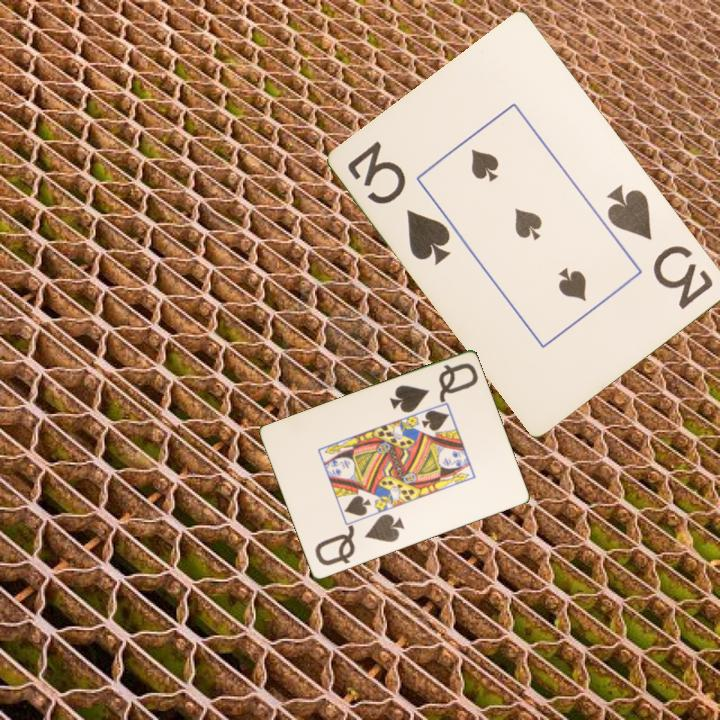3s: (603, 181, 717, 313), (344, 137, 455, 268)
Qs: (311, 511, 407, 569), (386, 360, 481, 416)
